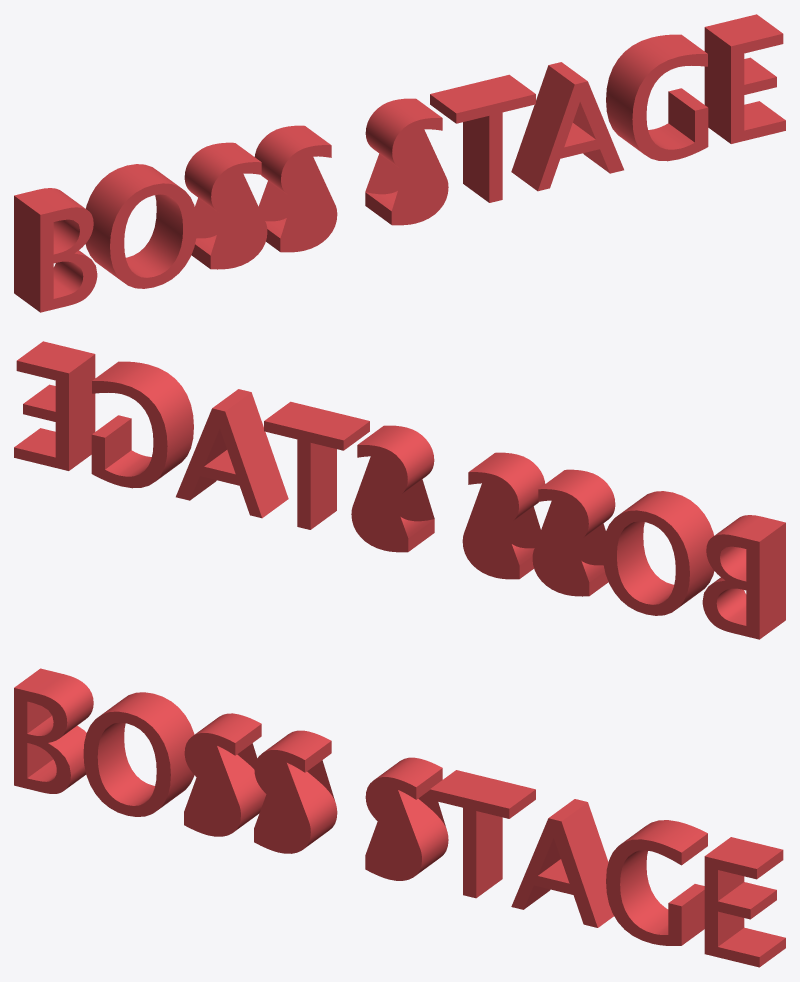
The model's file is 3DTEXT.fbx.
The picture shows the model from 3 angles, top to bottom: view 1: azimuth 30°, elevation 25°; view 2: azimuth 150°, elevation 25°; view 3: azimuth 330°, elevation 25°; orthographic projection.
Parts seen in each view (by area): view 1: typeMesh1; view 2: typeMesh1; view 3: typeMesh1.
Part boxes in pixels (left/top/right/bottom): typeMesh1: left=14, top=14, right=785, bottom=312; typeMesh1: left=14, top=341, right=785, bottom=639; typeMesh1: left=14, top=668, right=785, bottom=967.
Bounding box in the file's own units: 21.48 × 2.83 × 1.32.
